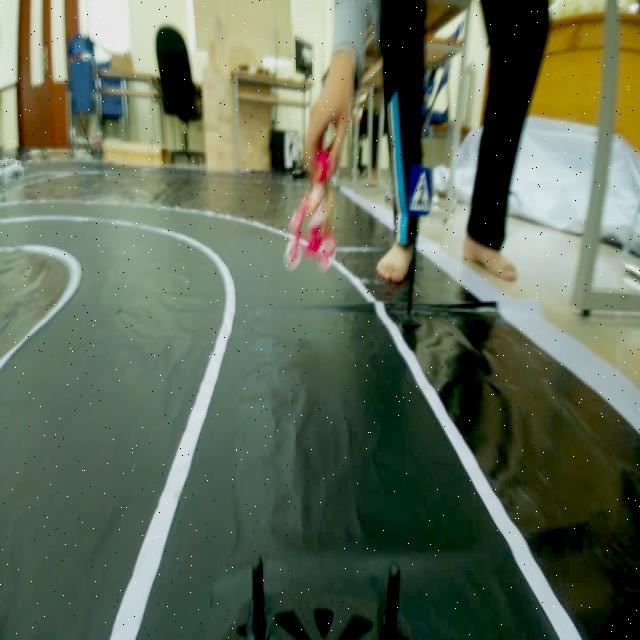crosswalk: (401, 158, 437, 218)
